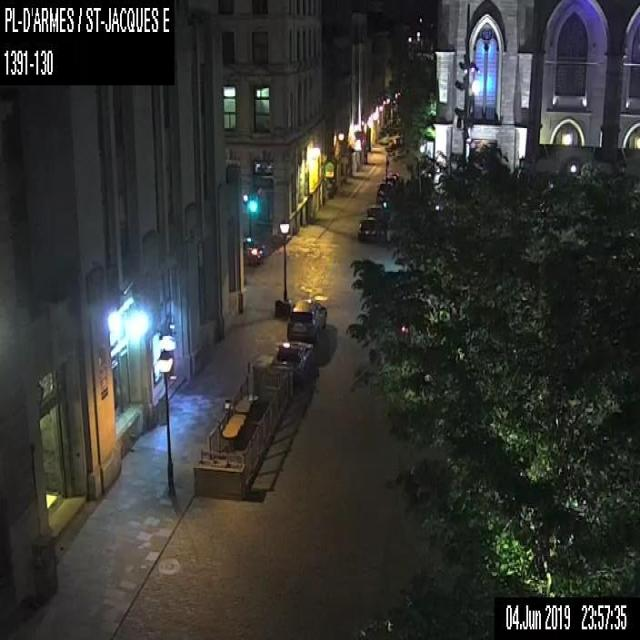vehicle: (286, 297, 327, 342), (272, 341, 313, 382), (244, 236, 264, 267), (358, 216, 379, 241), (376, 180, 392, 203), (366, 205, 385, 223)
